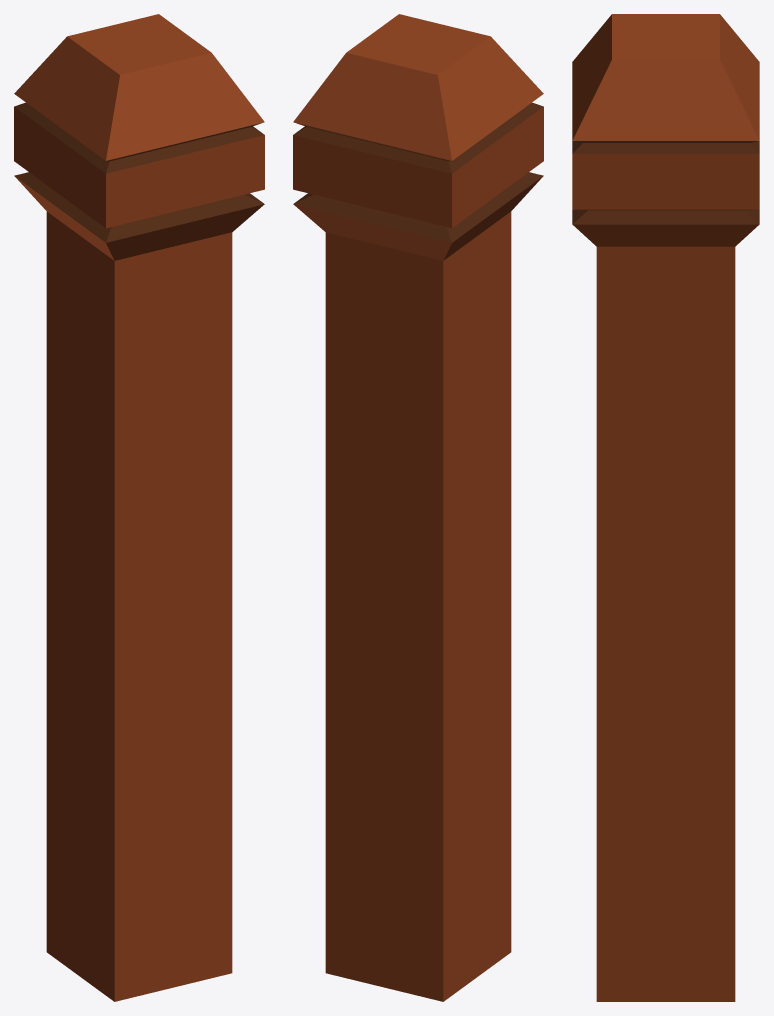
File: gateStand.gltf
3 renders of one model, left to right at view 1: azimuth 30°, elevation 25°; view 2: azimuth 150°, elevation 25°; view 3: azimuth 270°, elevation 25°, orthographic.
Visible parts, largest first — view 1: Cube.055; view 2: Cube.055; view 3: Cube.055.
Part boxes in pixels (x1,y1,x2,y2): Cube.055: (14,14,264,1001); Cube.055: (293,14,543,1001); Cube.055: (572,14,759,1001).
Bounding box in the file's own units: 0.8923 × 4.92 × 0.8923.
